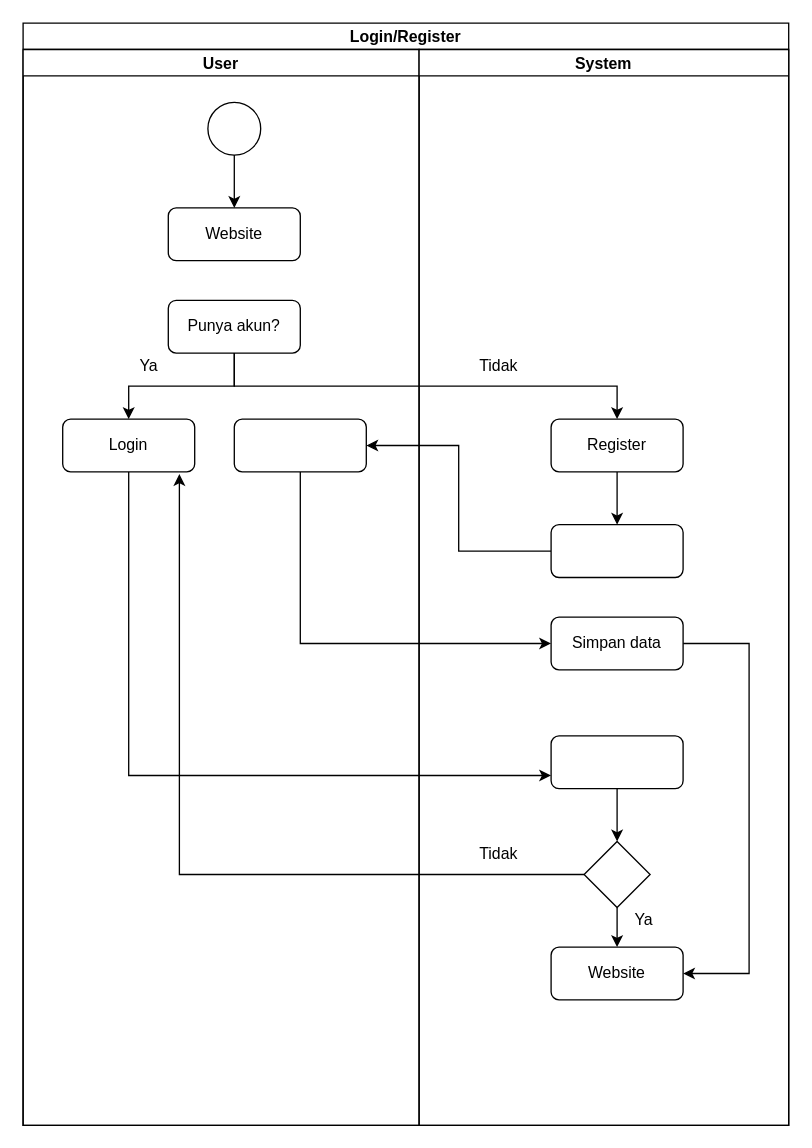
The diagram is 812 pixels wide and 1148 high, and some of its shapes have lost their labels. Each missing label, with the centre of its shape:
Buat Form: [616,550]
Data (email, password): [299,445]
Valid?: [616,874]
Validasi: [616,762]
